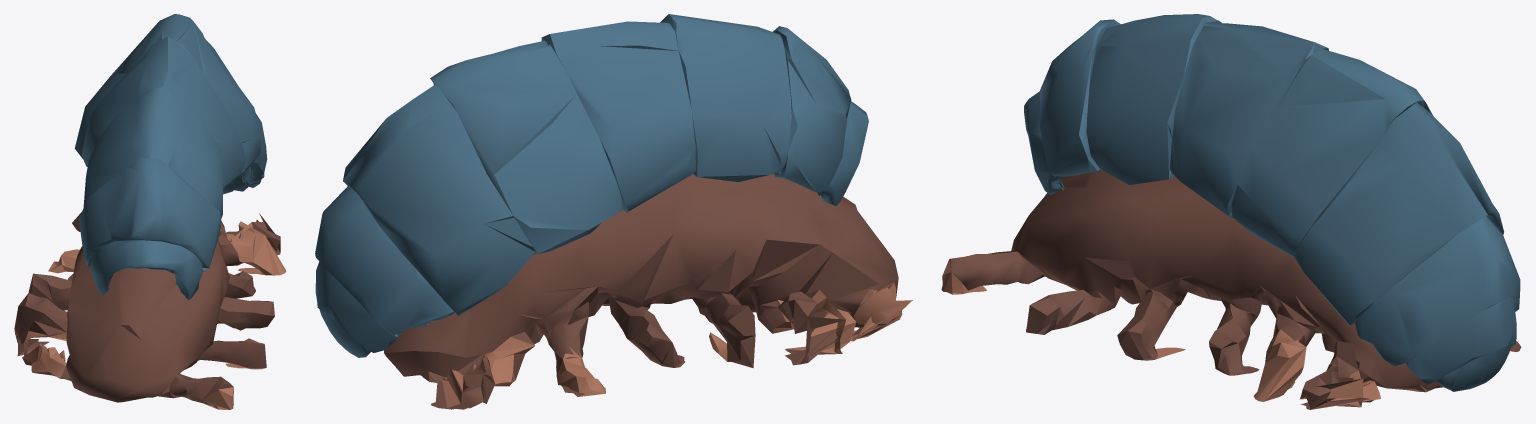
Rendered from big-spitter-corpse-1.glb.
3 renders of one model, left to right at view 1: azimuth 30°, elevation 25°; view 2: azimuth 150°, elevation 25°; view 3: azimuth 270°, elevation 25°, orthographic. The views are drawn at different scales.
Parts seen in each view (by area): view 1: body; view 2: body; view 3: body.
Part boxes in pixels (x1,y1,x2,y2): body: (14, 14, 286, 409); body: (315, 14, 912, 409); body: (941, 14, 1521, 409).
Bounding box in the file's own units: 2.63 × 1.75 × 3.06.
